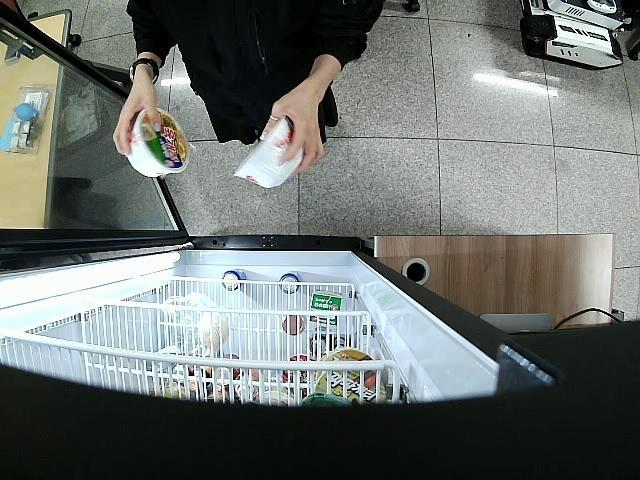09_yukGaeJang: (234, 117, 304, 188), (126, 108, 192, 177)
